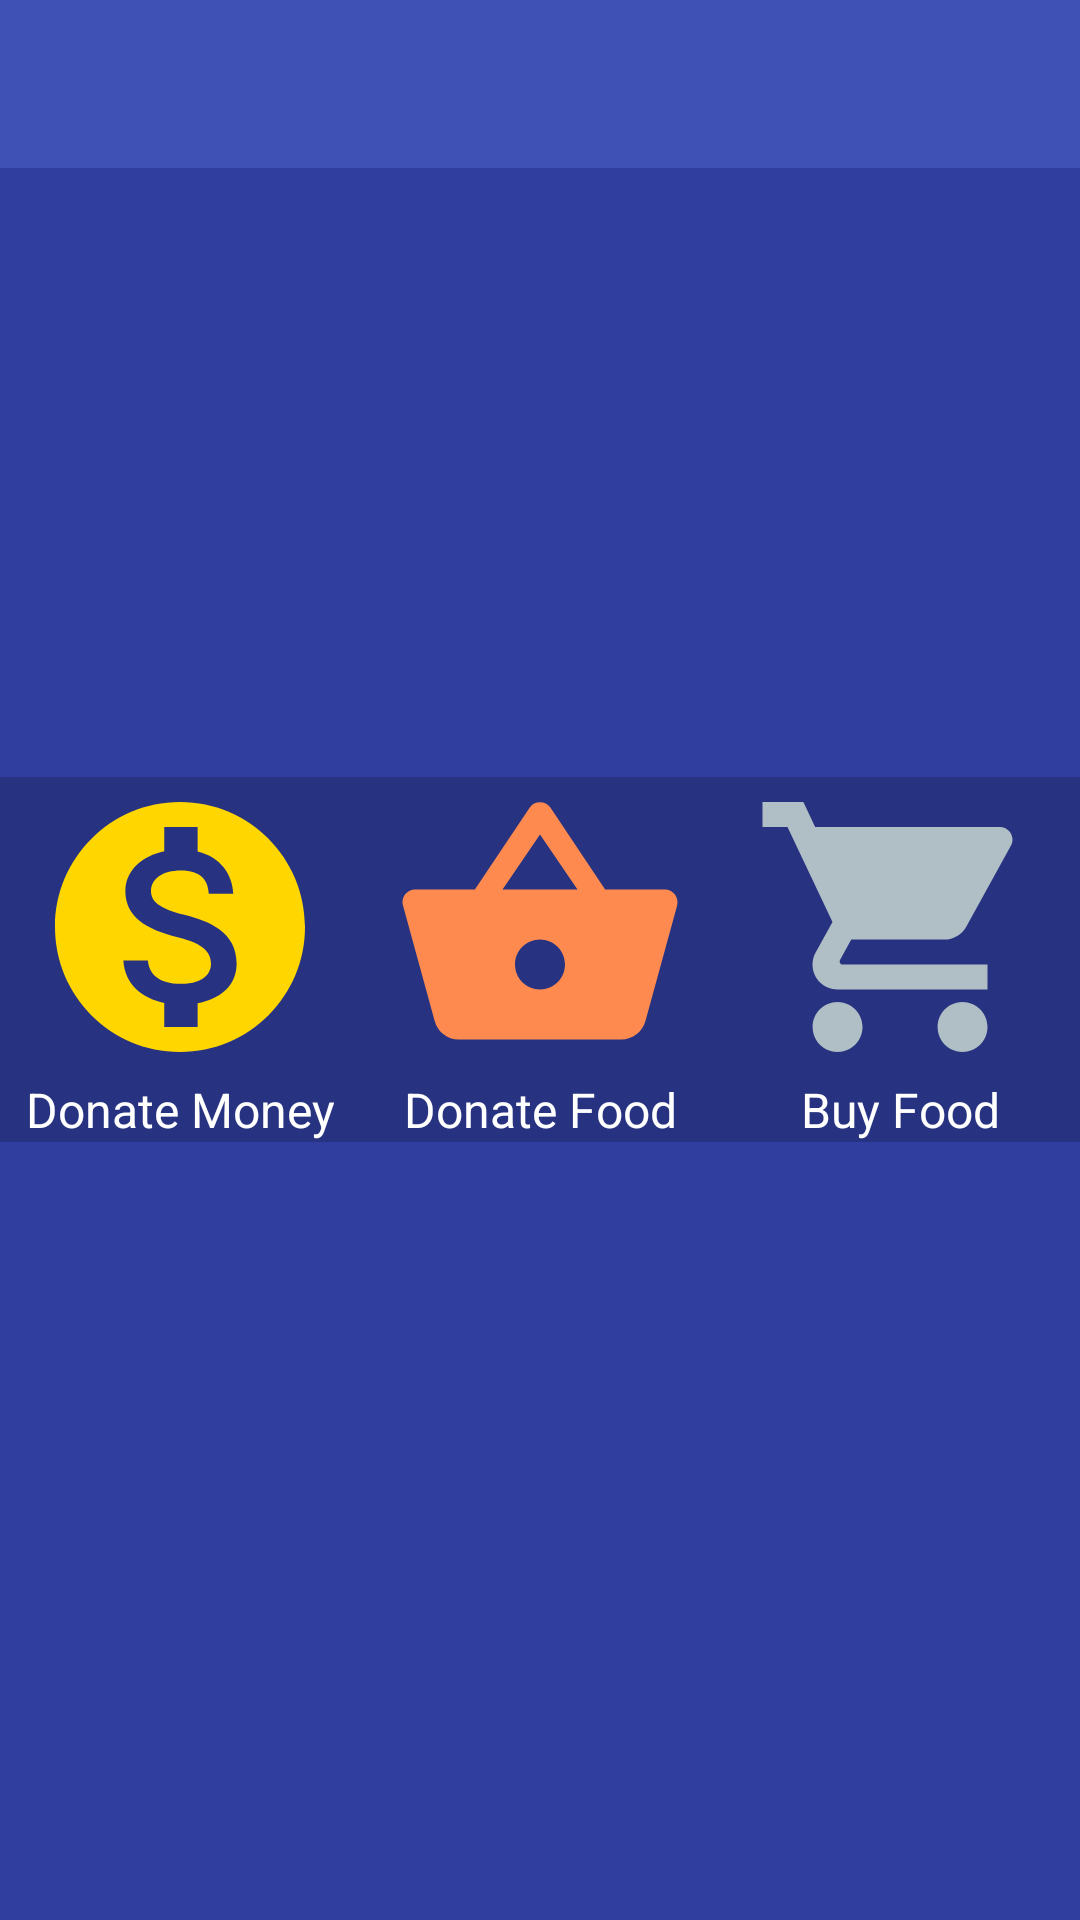

Point at icon controls on the screen. Image size 1080px x 1920px, points as (x=x, y=y).
monetization on: (x=180, y=927)
shopping basket: (x=540, y=921)
shopping cart: (x=887, y=927)
